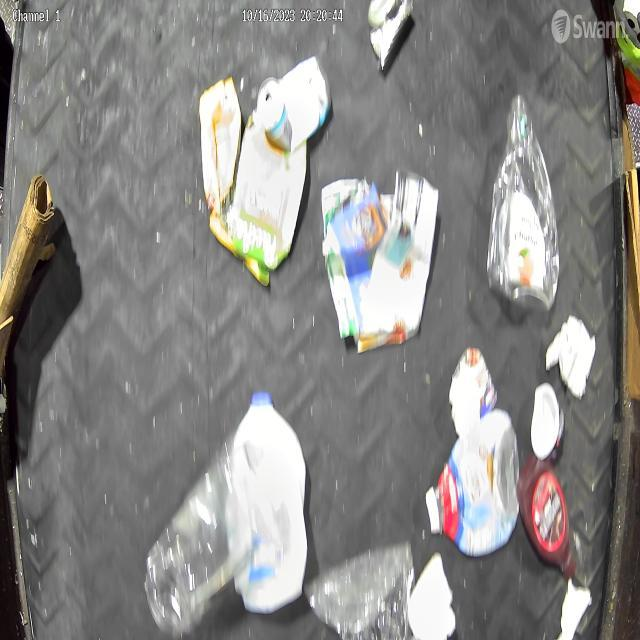can: (256, 56, 334, 152), (368, 0, 413, 71)
milk_jug: (232, 391, 308, 614)
non_white_jug: (485, 92, 561, 312)
